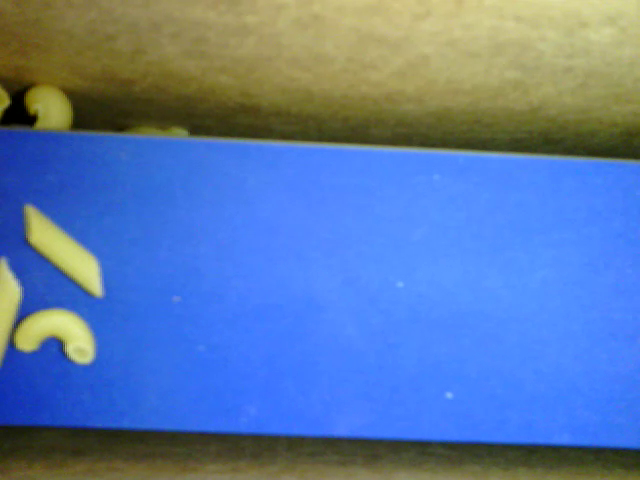elbow: (10, 307, 94, 365)
penne: (24, 205, 104, 301)
